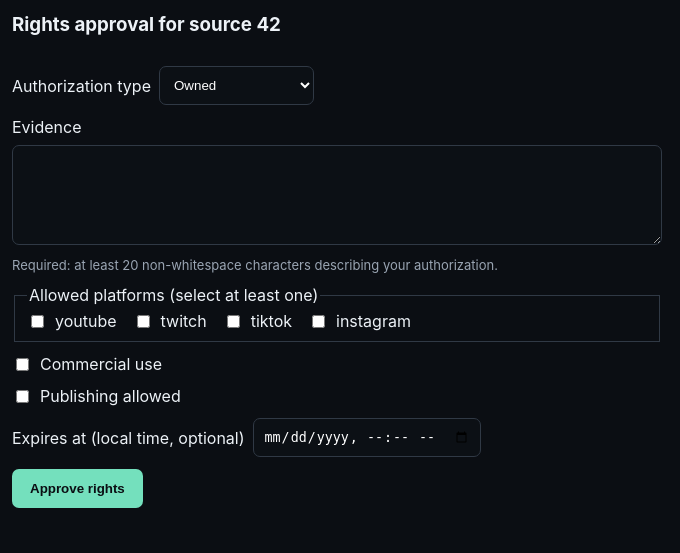
Test case: RightsForm › shows server 422 details: Rights rejected
The width and height of the screenshot is (680, 553).
Type "I own the original video and all distribution rights." into the text box labelled "Evidence" at (337, 195), box [12,145,662,245]
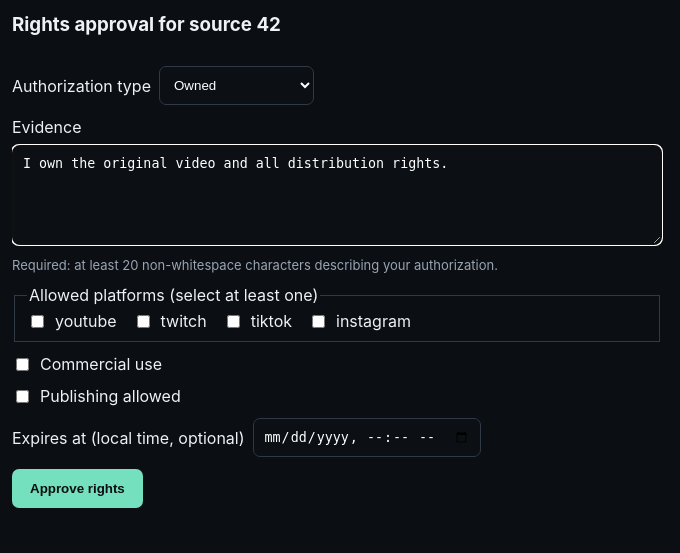
Click the checkbox labelled "twitch" at (143, 321), box [137,314,150,328]
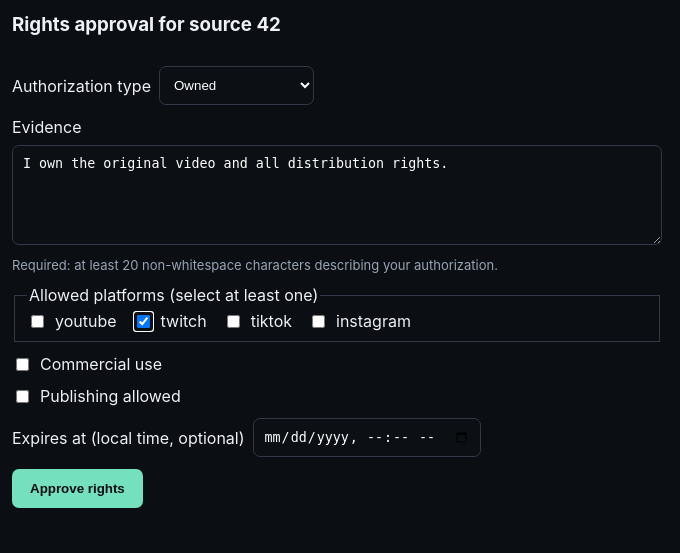
Click the button "Approve rights" at (77, 489), box [12,469,143,508]
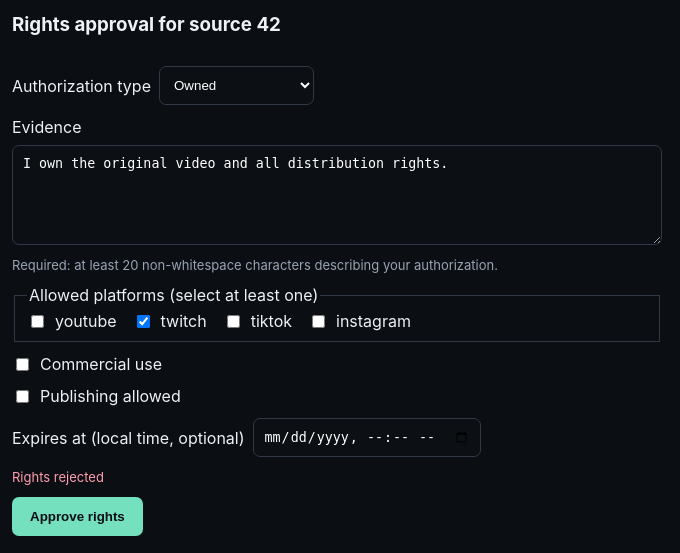
Result: the message reads "Rights rejected" at [12,469,104,485]
